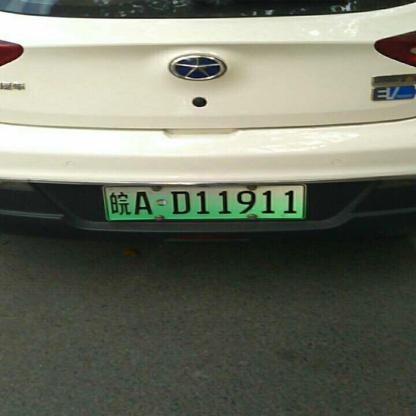lp: (104, 185, 304, 218)
